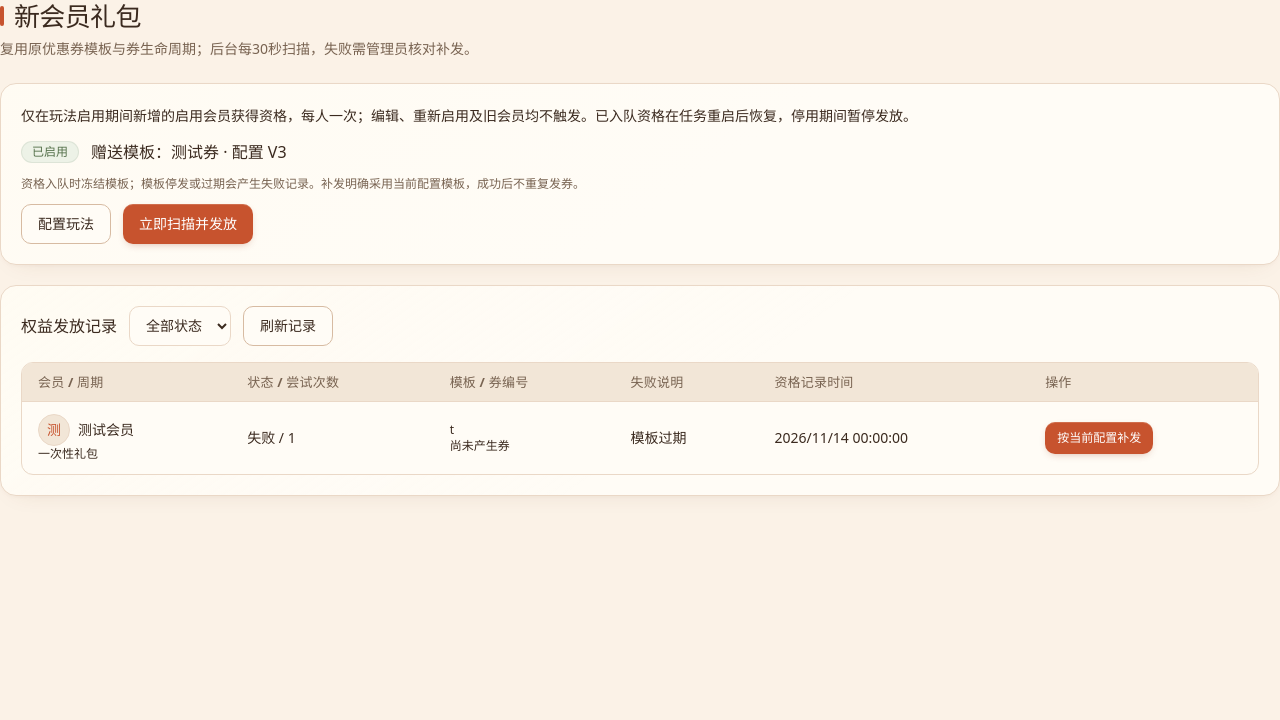
Test: 保存配置携带当前版本，失败时保留编辑器与错误提示
Click the button "配置玩法" at (66, 224), box 21,204 -> 111,244
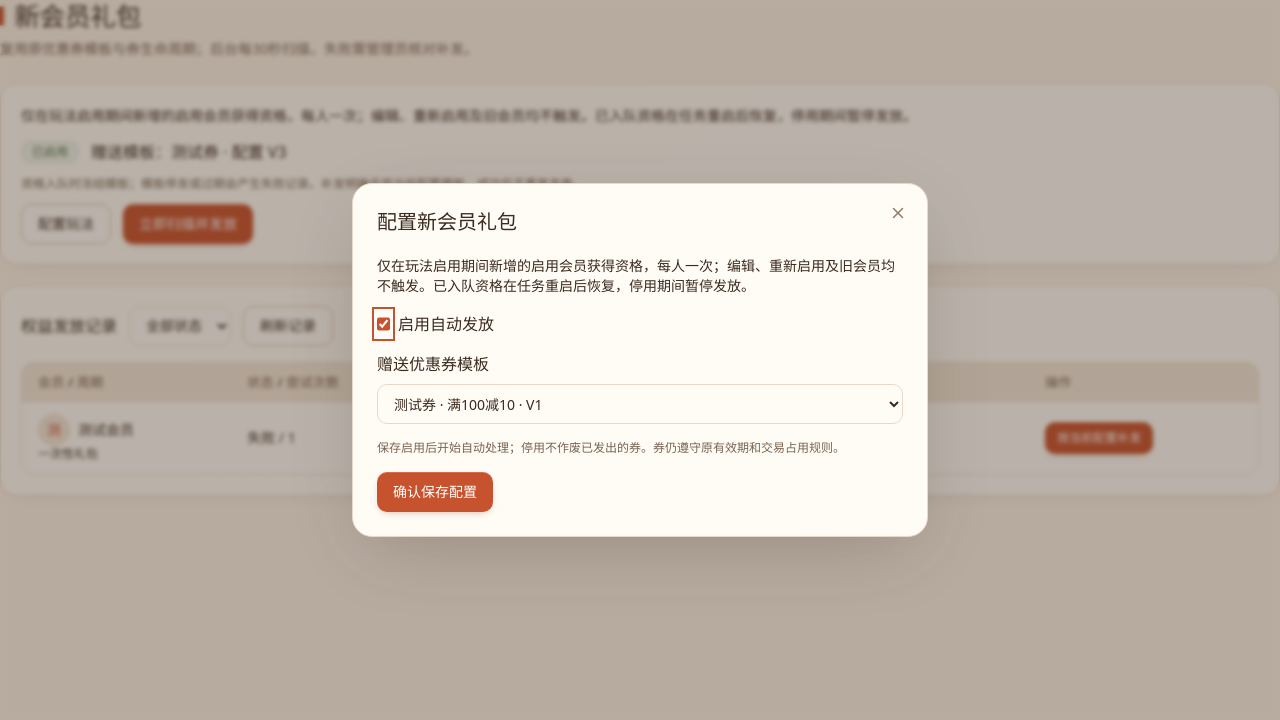
Click the button "确认保存配置" at (435, 492), box 377,472 -> 493,512
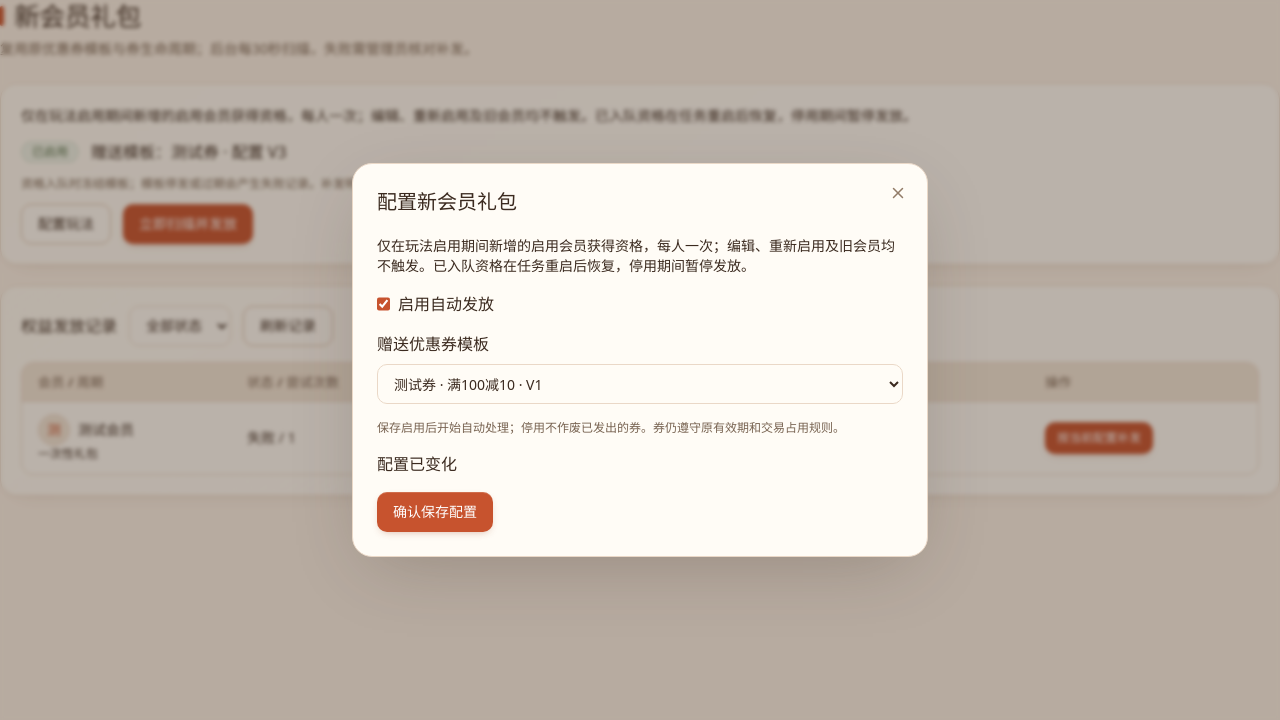
Expected: the message reads "配置已变化", 377,453 -> 457,475
